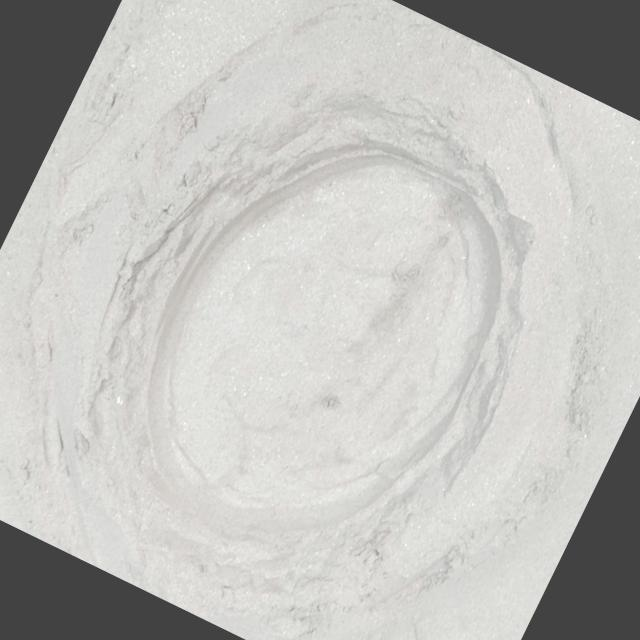C40: (147, 153, 496, 531)
